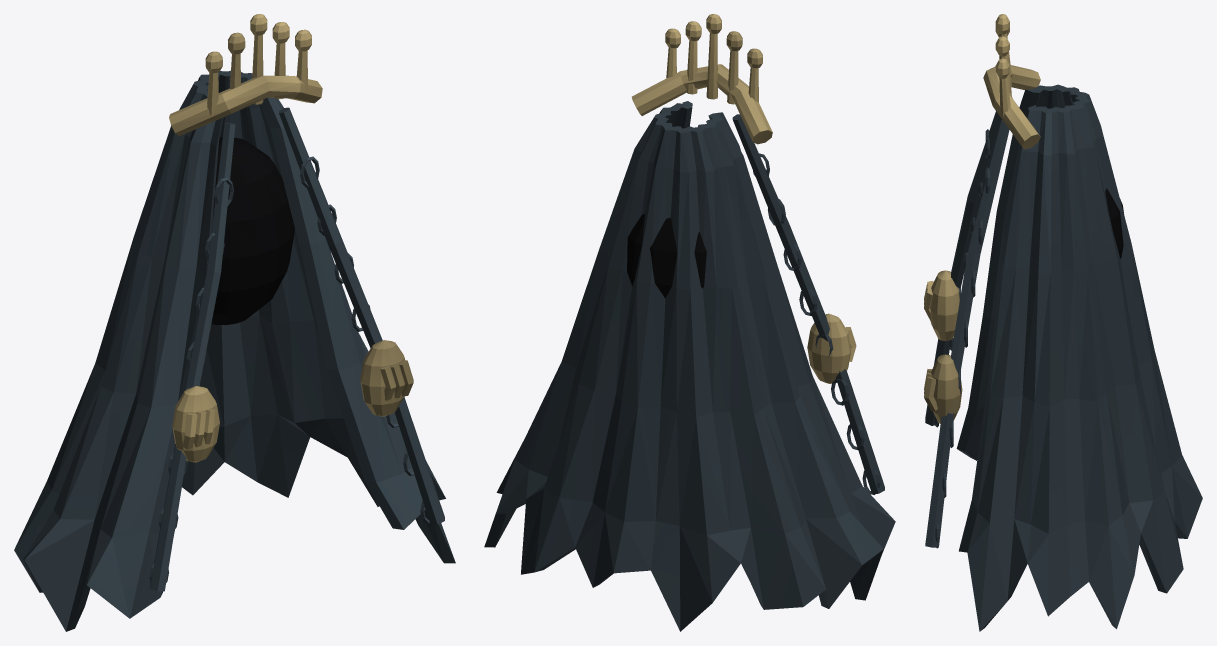
The model's file is veil_mourner.fbx.
3 views of the same model, side by side, from view 1: azimuth 30°, elevation 25°; view 2: azimuth 150°, elevation 25°; view 3: azimuth 270°, elevation 25° (orthographic). The views are drawn at different scales.
Visible parts, largest first — view 1: veil_mourner; view 2: veil_mourner; view 3: veil_mourner.
Part boxes in pixels (left/top/right/bottom): veil_mourner: left=14, top=14, right=455, bottom=631; veil_mourner: left=484, top=14, right=895, bottom=631; veil_mourner: left=924, top=14, right=1202, bottom=631.
Bounding box in the file's own units: 4.57 × 6.1 × 2.86.
